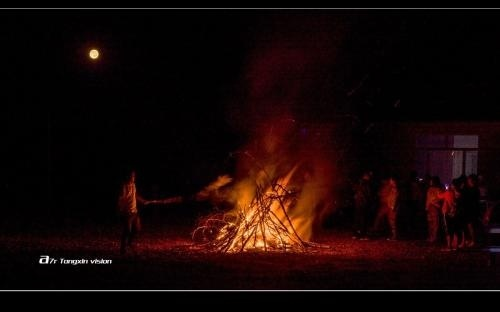fire: (220, 187, 297, 250)
